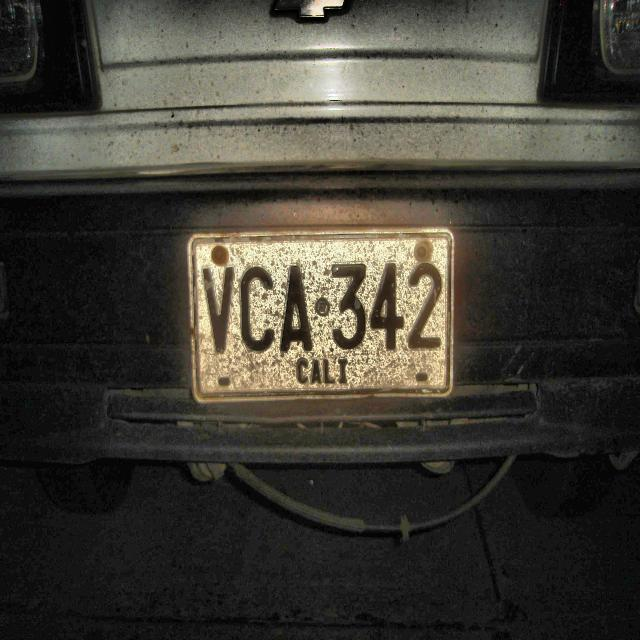plate: (187, 229, 454, 404)
